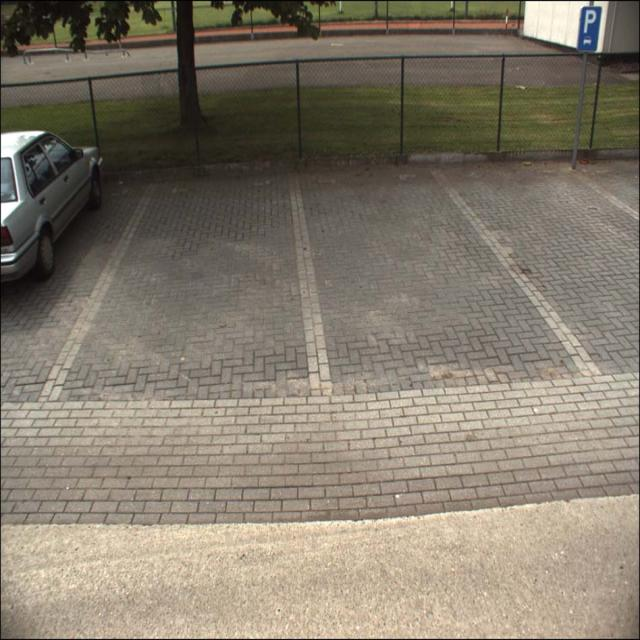park: (579, 7, 601, 37)
